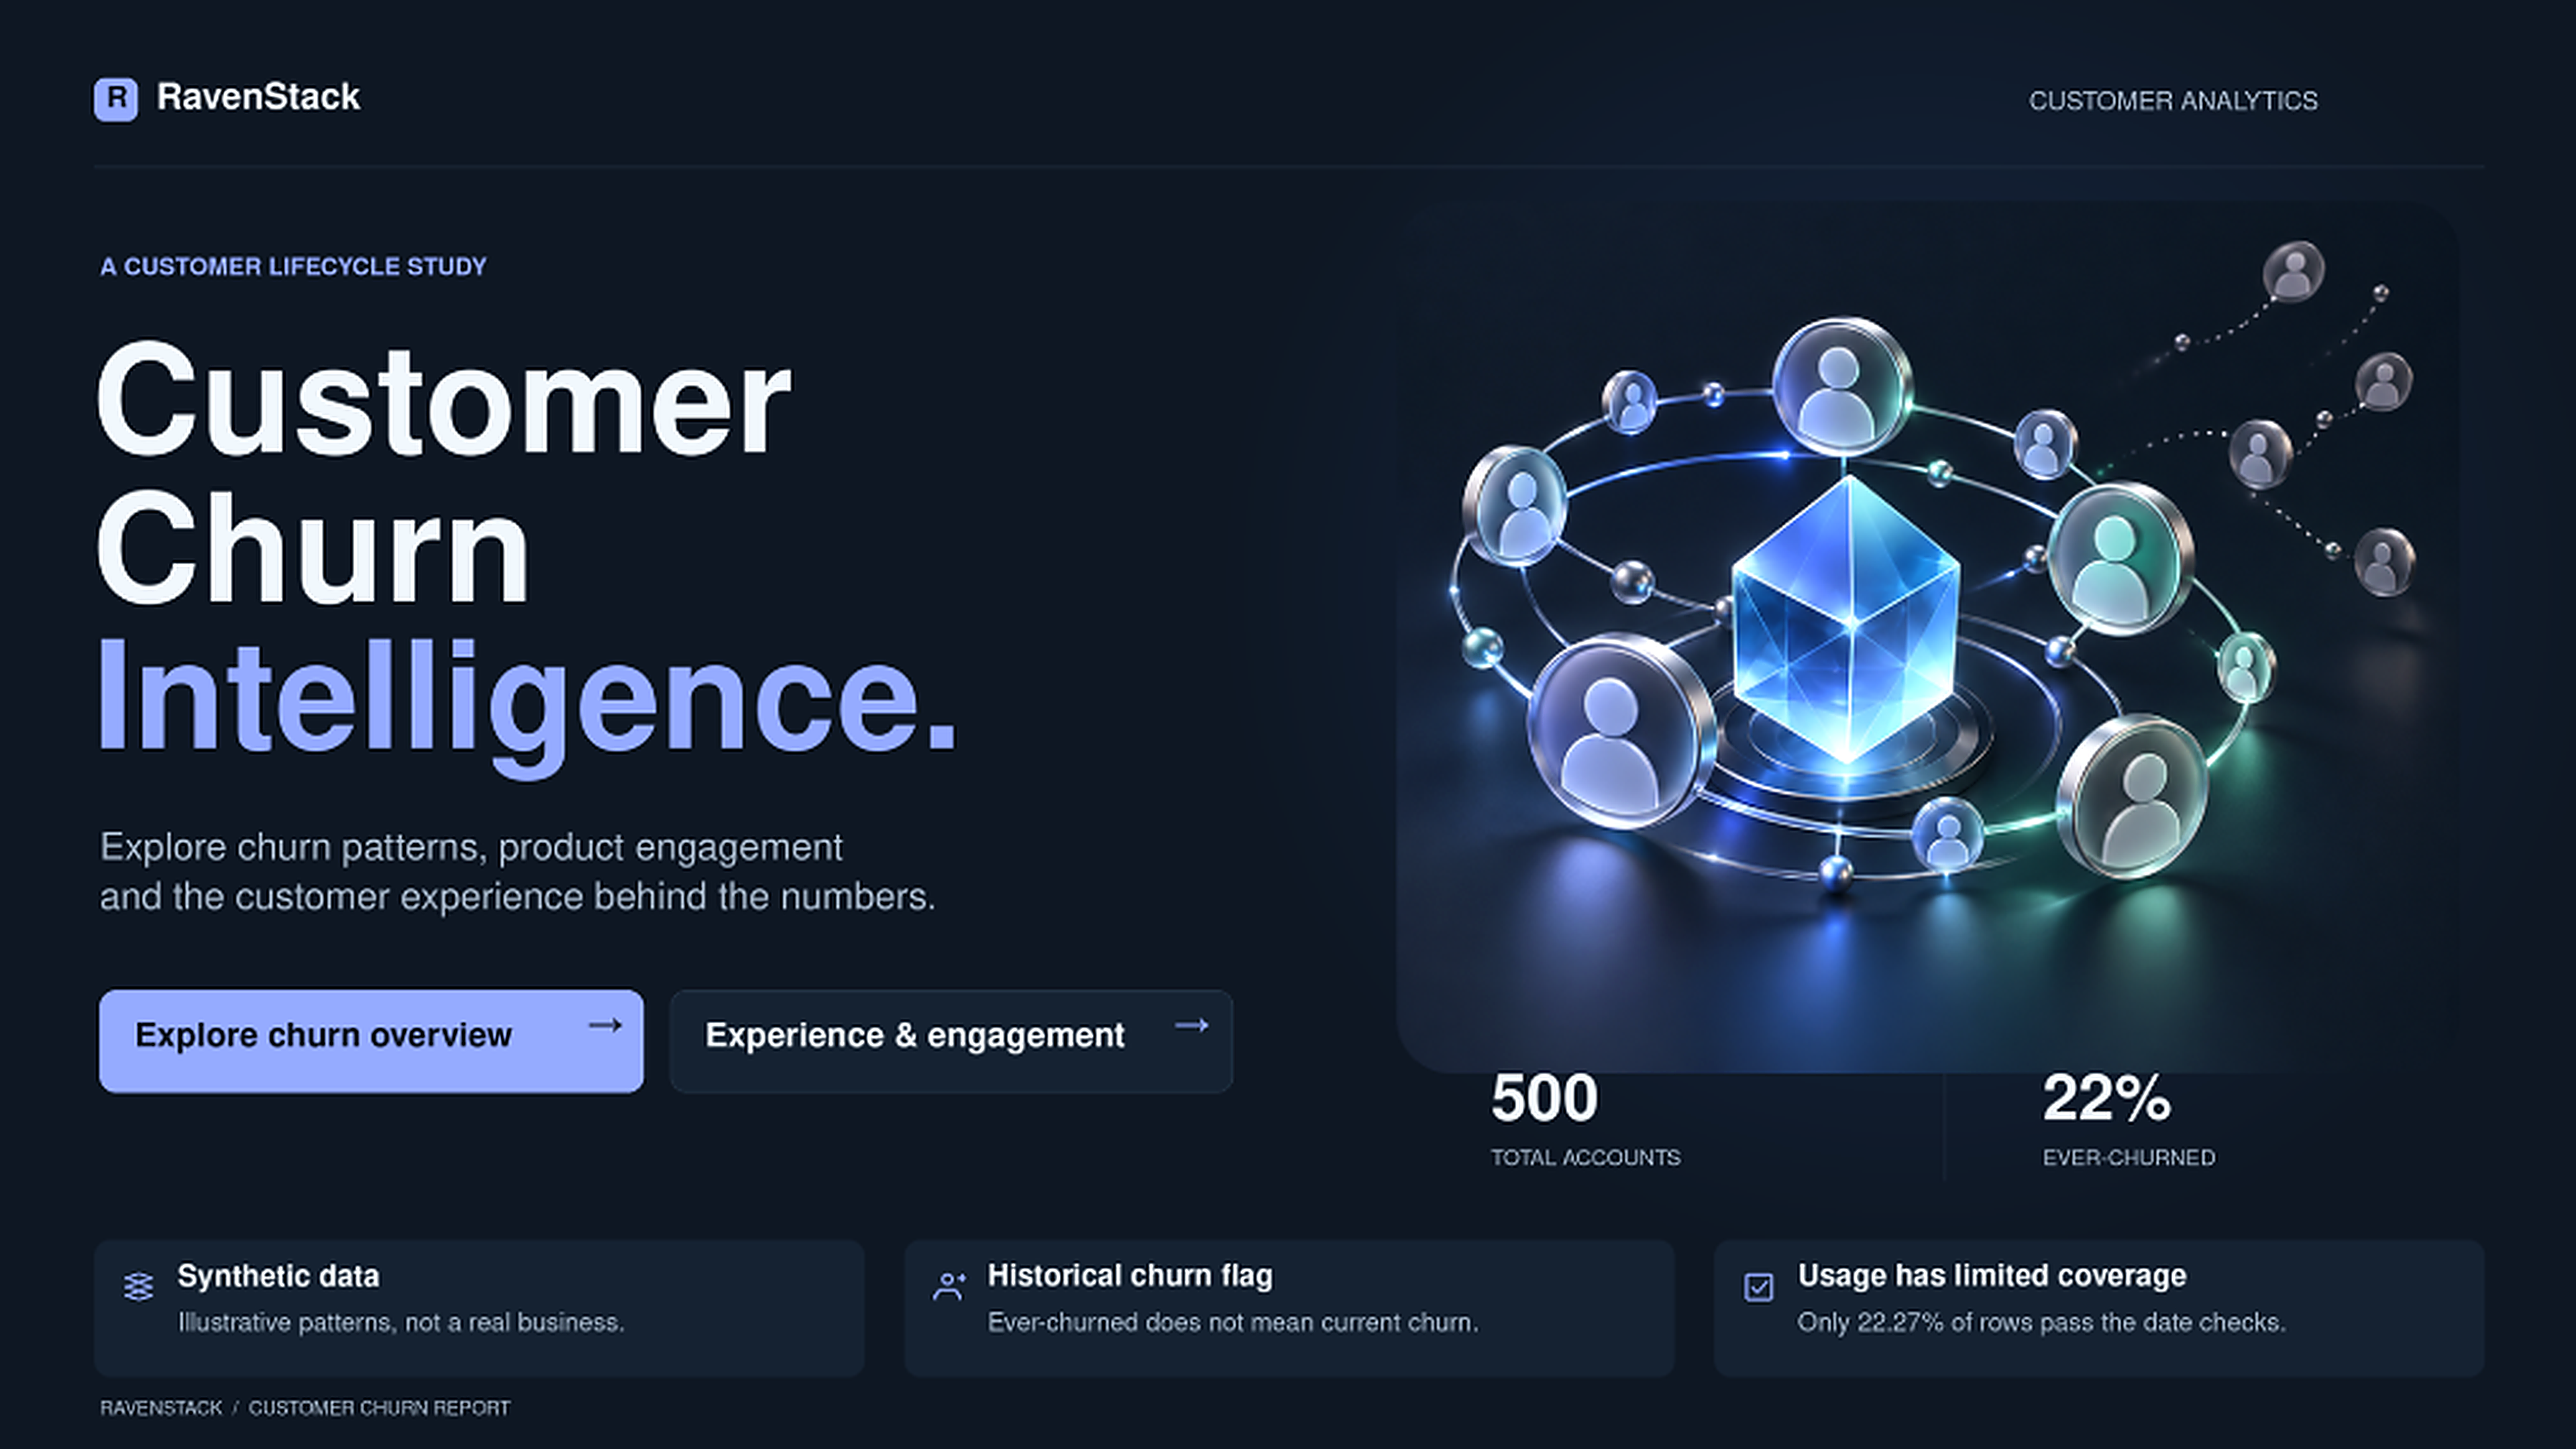

The page's visual inventory and layout, read from the dashboard file:
{"tool":"powerbi","page":{"name":"Home","canvas":[1920,1080],"ordinal":0},"visuals":[{"type":"actionButton","box":[500,738,418,76],"z":0},{"type":"actionButton","box":[76,738,404,76],"z":1000}]}

Visuals, with their boxes in screenshot pixels (x1, y1, x2, y2), scaled from the page's 1920x1080 canvas onto the 2576x1449 screenshot:
actionButton: (671,990,1232,1092)
actionButton: (102,990,644,1092)
